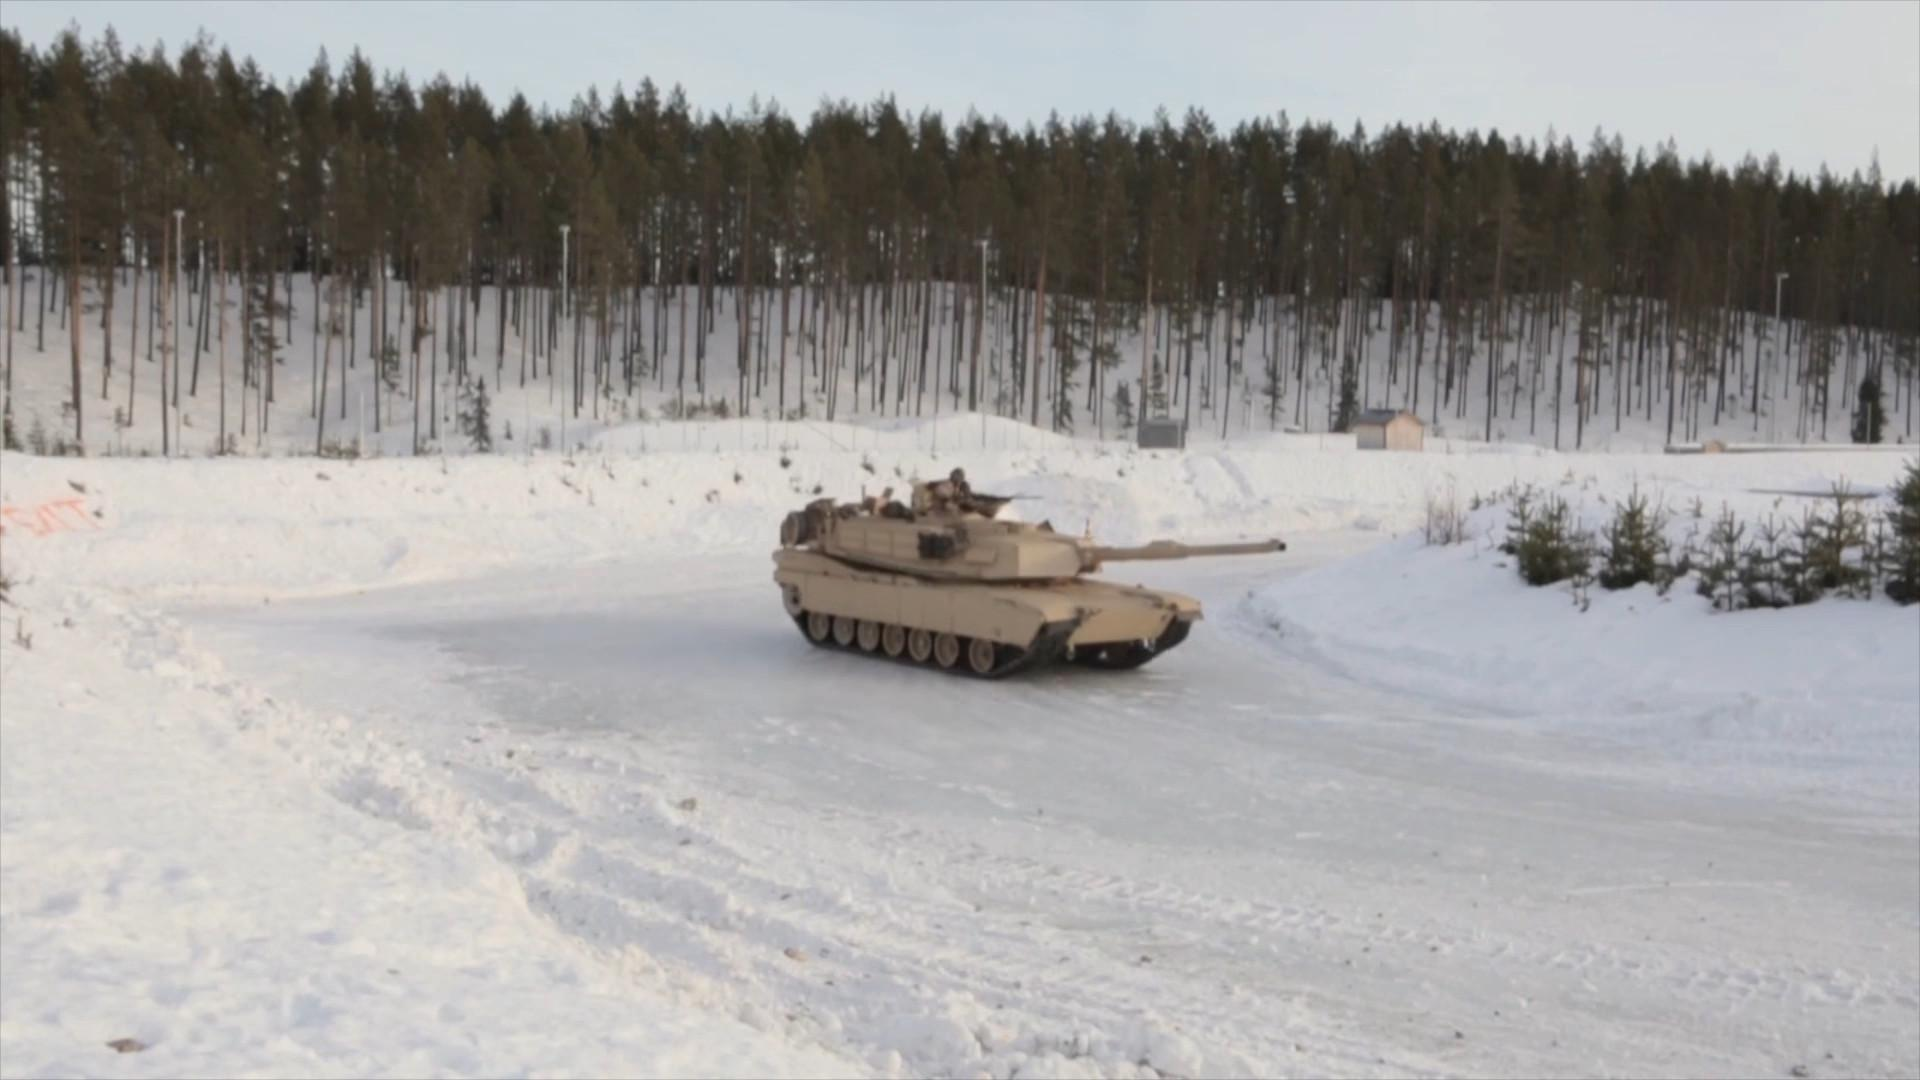tank: (772, 481, 1288, 679)
